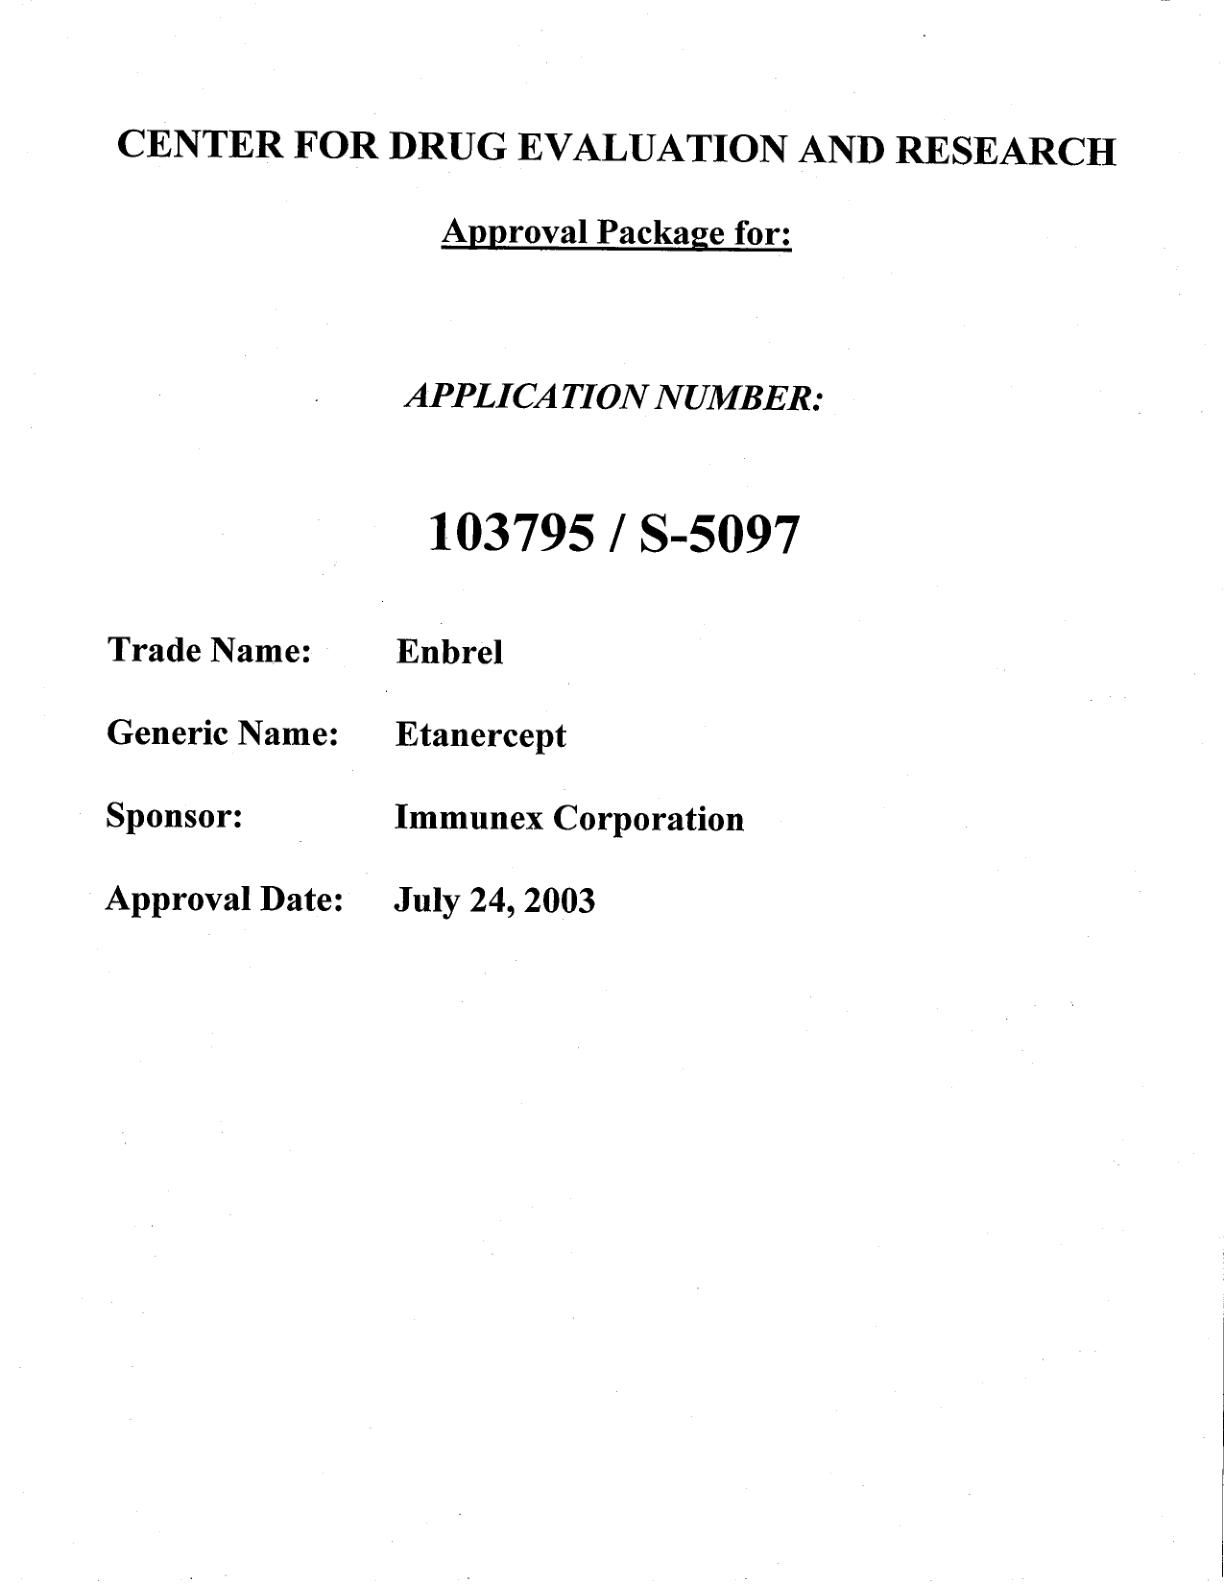nolines: (102, 631, 746, 923)
